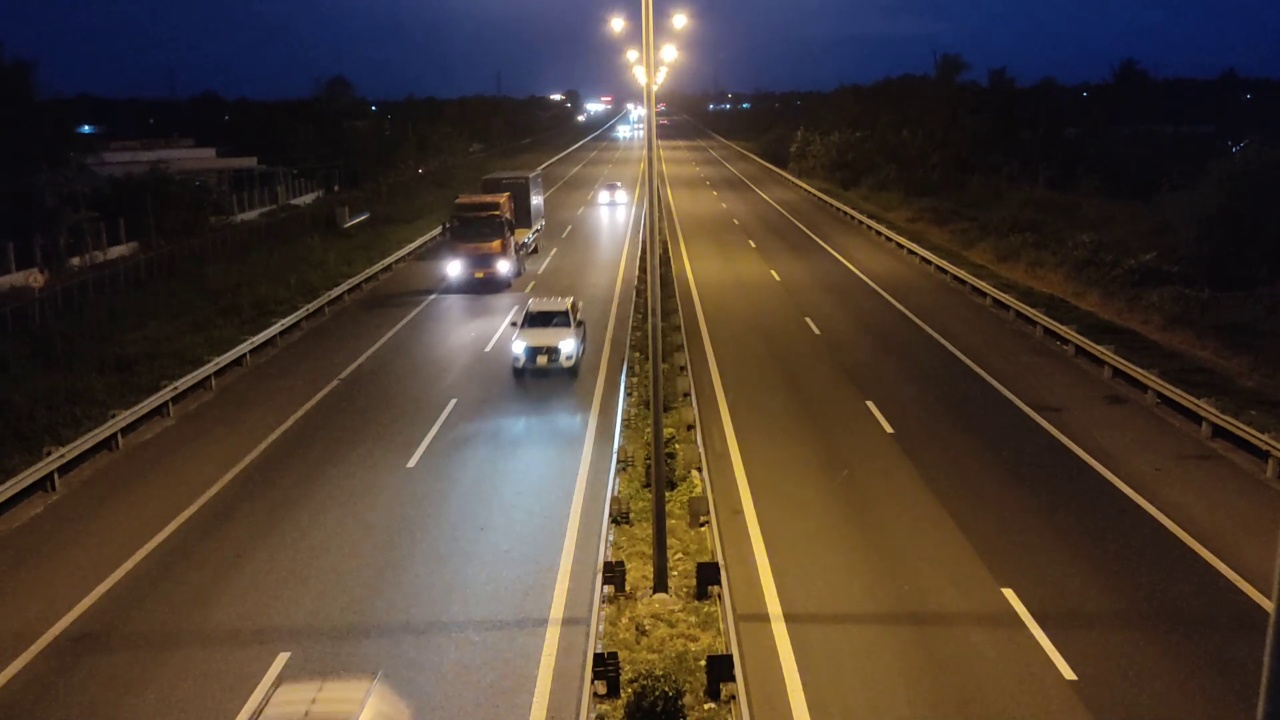car: (509, 294, 587, 378)
truck: (440, 165, 544, 293)
